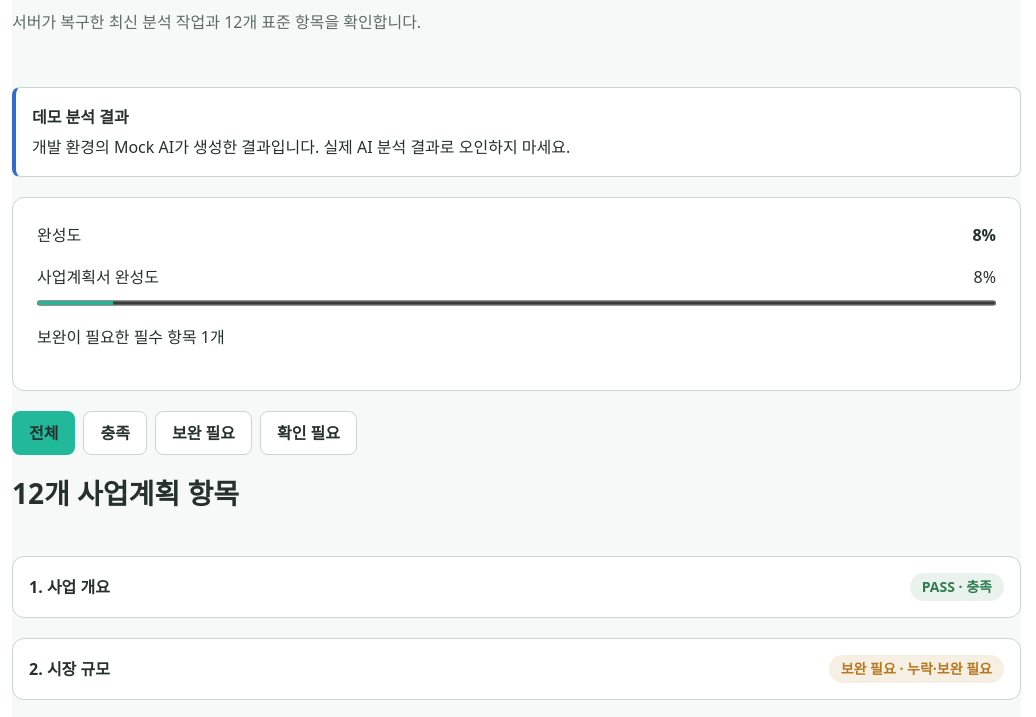
it: document pages › renders 12 real-result sections, evidence, missing summary, and mock disclosure
Check: the text "데모 분석 결과" is shown, box [32,106,129,128]
Check: the heading "12개 사업계획 항목" is shown, box [12,474,239,512]
Step 1. Click the text "1. 사업 개요" → (69, 587), box [29,574,110,600]
(page scrolled)
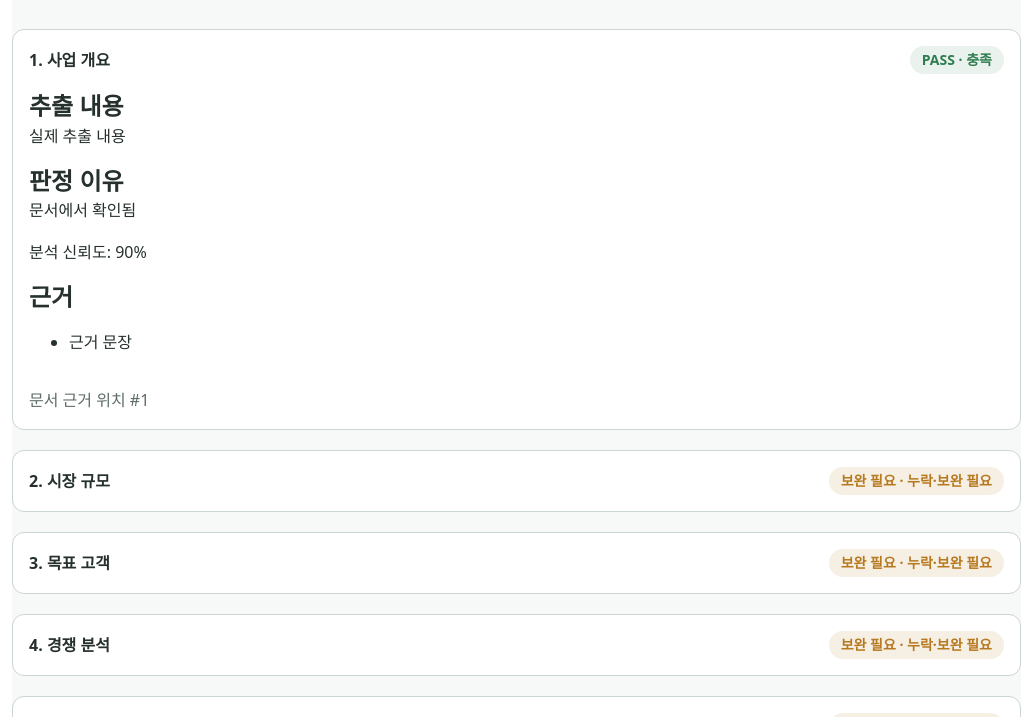
Check: the text "실제 추출 내용" is shown, box [29,125,126,147]
Check: the list item "근거 문장" is shown, box [69,331,132,353]
